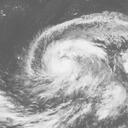cyclone: (39, 39, 106, 85)
